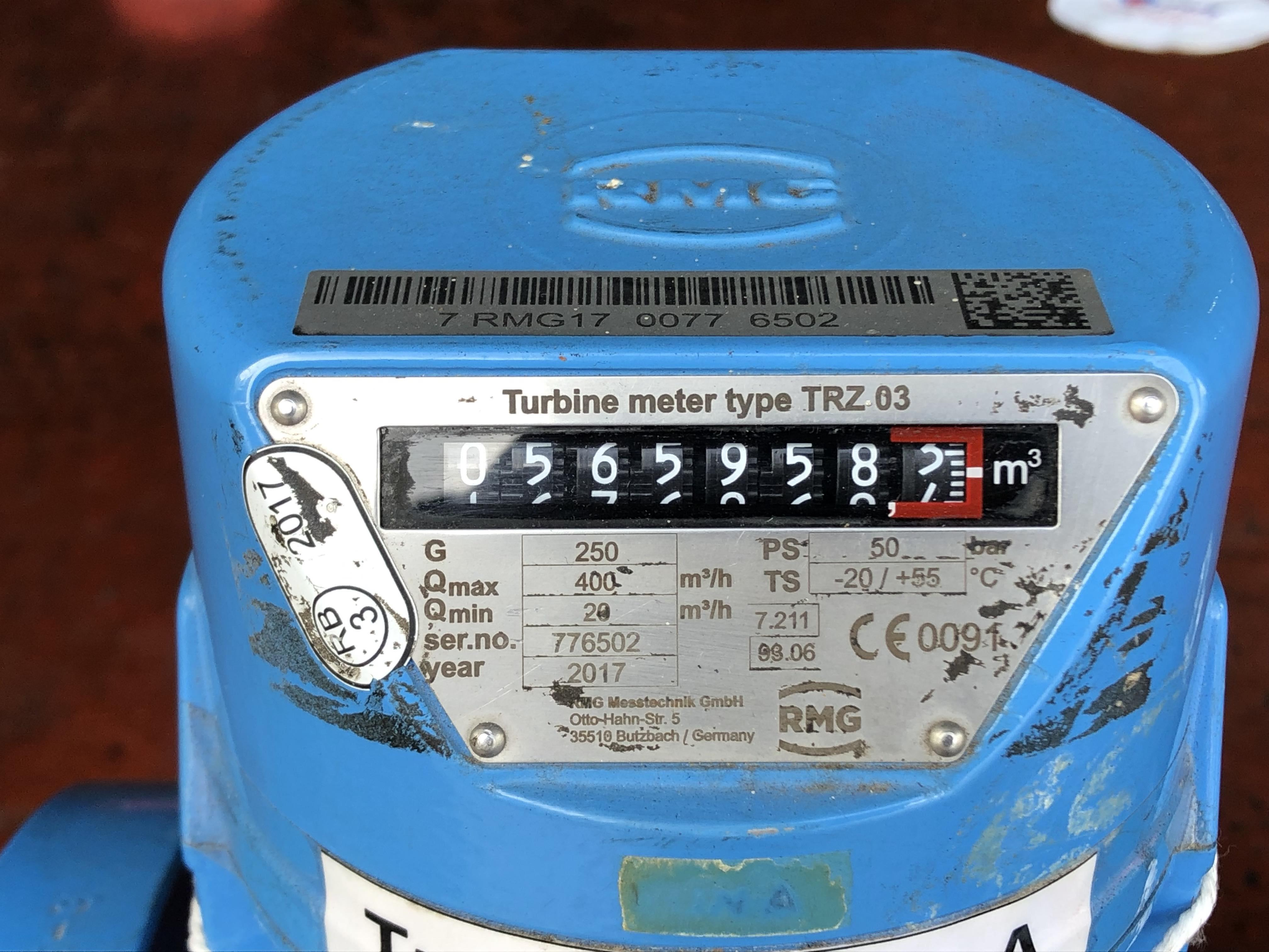analog_dial: (379, 424, 1058, 529)
